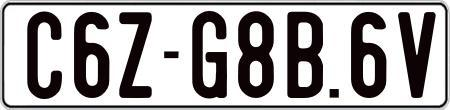6: (350, 11, 390, 100), (73, 9, 112, 96)
8: (237, 8, 274, 101)
B: (286, 11, 328, 98)
C: (27, 10, 63, 97)
G: (192, 11, 230, 104)
V: (395, 11, 429, 98)
Z: (117, 12, 151, 101)
